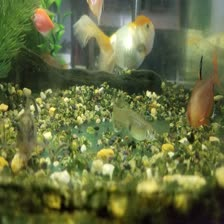Cuezo: (75, 9, 164, 75)
Guppy: (104, 102, 162, 146)
Kiros: (6, 104, 58, 166)
Plano: (24, 6, 60, 38)
Transparente: (181, 47, 219, 129)
